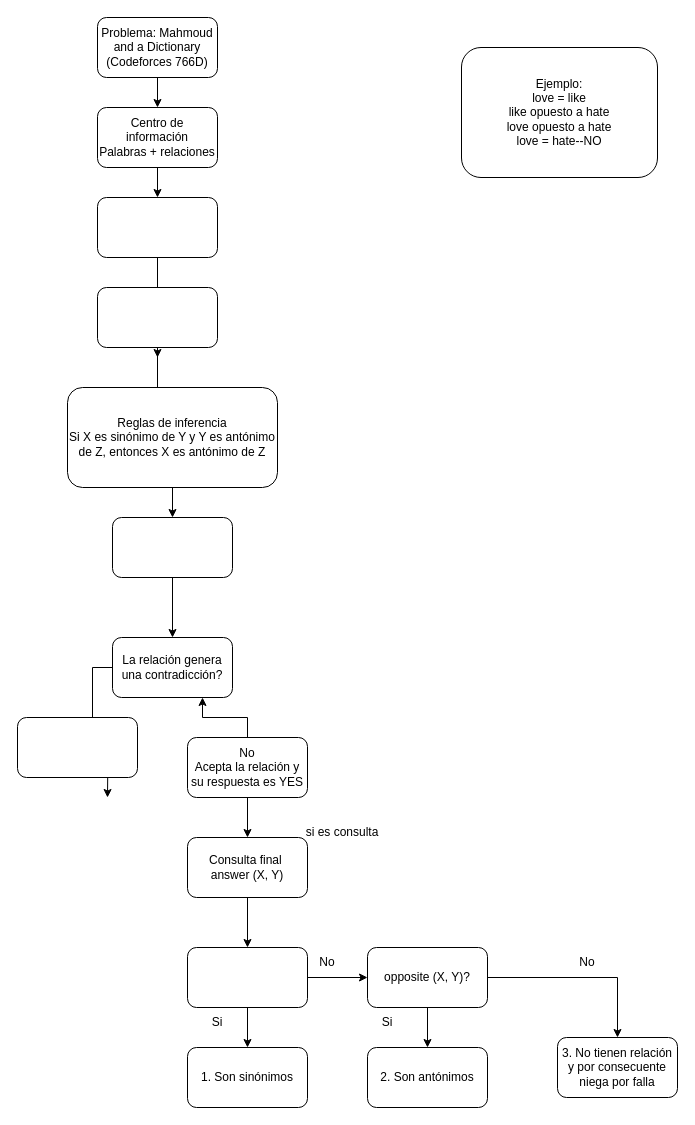
This 695x1125 diagram has some shape labels left out. The centre of each missing label's shape, as x and y in pixels:
"Hechos en Prolog synonym(X,Y) antonym(X,Y)" belongs at point 157,227.
"Nueva relación" belongs at point 172,547.
"Reglas simétricas same(X,Y) opposite(X,Y)" belongs at point 157,317.
"same(X, Y)?" belongs at point 247,977.
"Si Rechaza la relación y su respuesta es NO" belongs at point 77,747.
